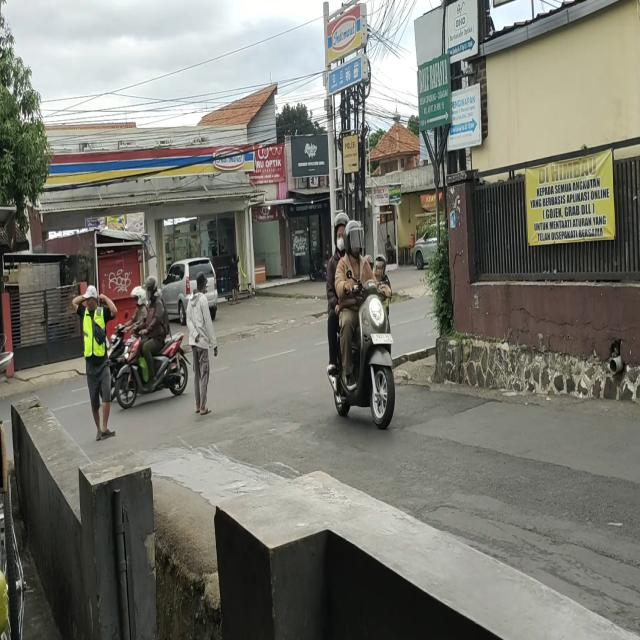helmet: (344, 220, 363, 253), (334, 213, 348, 251), (145, 276, 159, 300), (132, 285, 146, 307), (377, 256, 385, 279)
